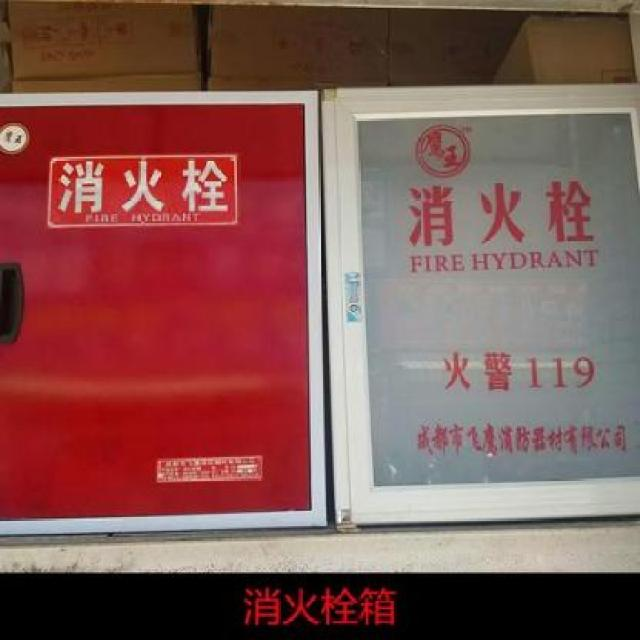firehydrant: (0, 86, 331, 543), (315, 80, 640, 539)
